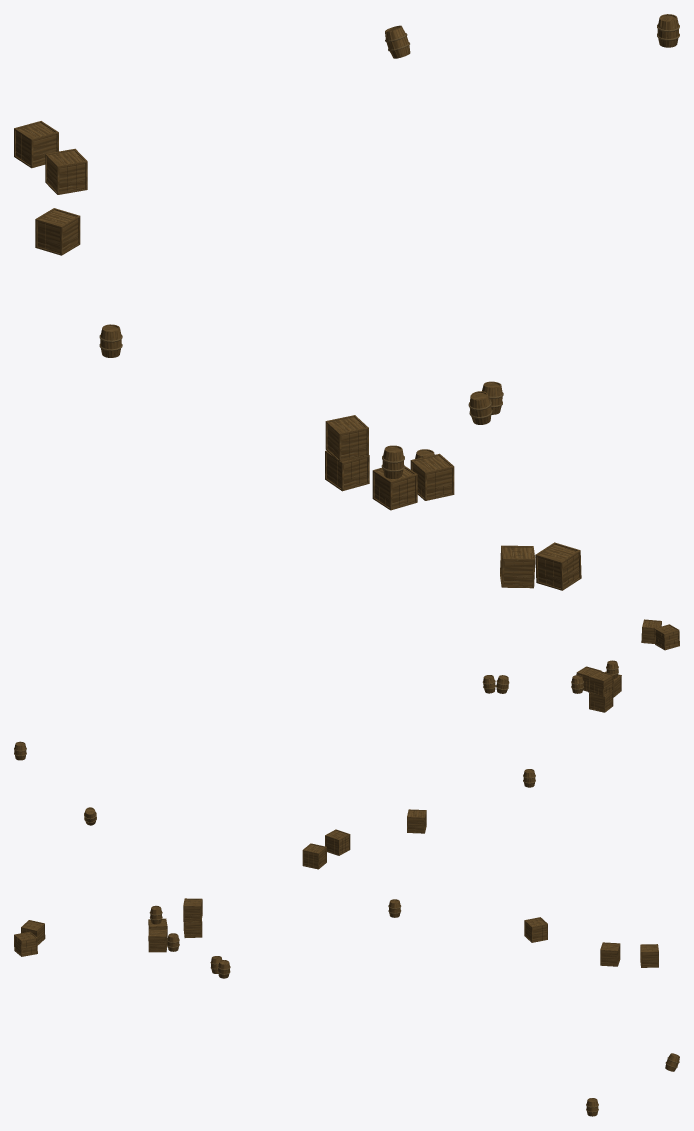
File: Barrels and Crates.glb
The picture shows the model from 3 angles, top to bottom: view 1: azimuth 30°, elevation 25°; view 2: azimuth 150°, elevation 25°; view 3: azimuth 270°, elevation 25°; orthographic projection. The views are drawn at different scales.
Parts seen in each view (by area): view 1: Barrels/Crates; view 2: Barrels/Crates; view 3: Barrels/Crates.
Part boxes in pixels (x1,y1,x2,y2): Barrels/Crates: (14,14,679,590); Barrels/Crates: (14,619,679,869); Barrels/Crates: (14,898,679,1116).
Size of what is drawn, in the model's own units: 31.59 by 2.74 by 43.56.
Materials: 1 (1 with a texture image).
